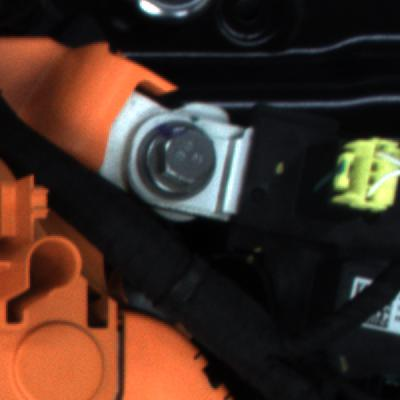nut_b: (136, 114, 232, 207)
